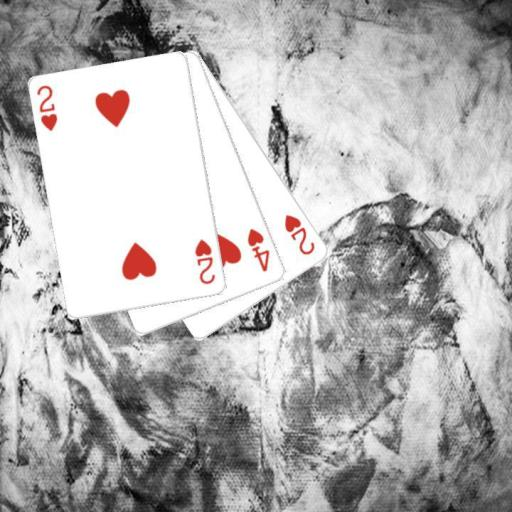2H: (282, 211, 317, 257), (192, 236, 218, 287), (34, 82, 60, 133)
4H: (245, 225, 272, 274)
